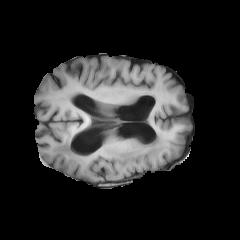glioma: (51, 135, 163, 181)
